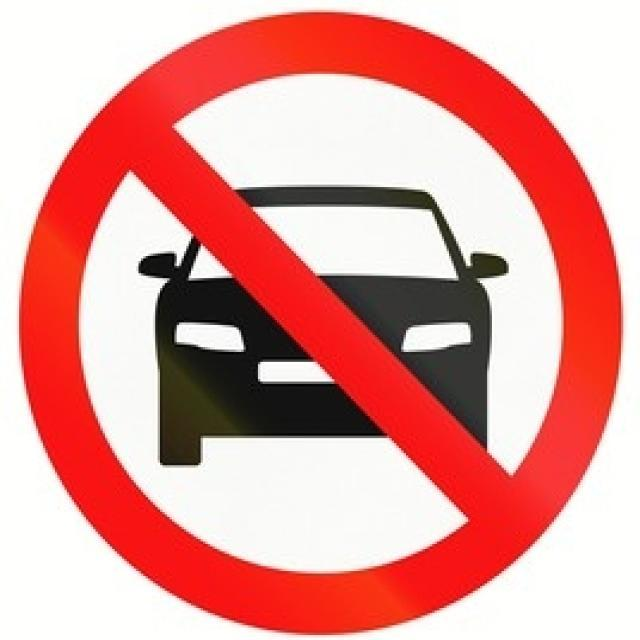all motor vehicle prohibited: (20, 16, 622, 628)
